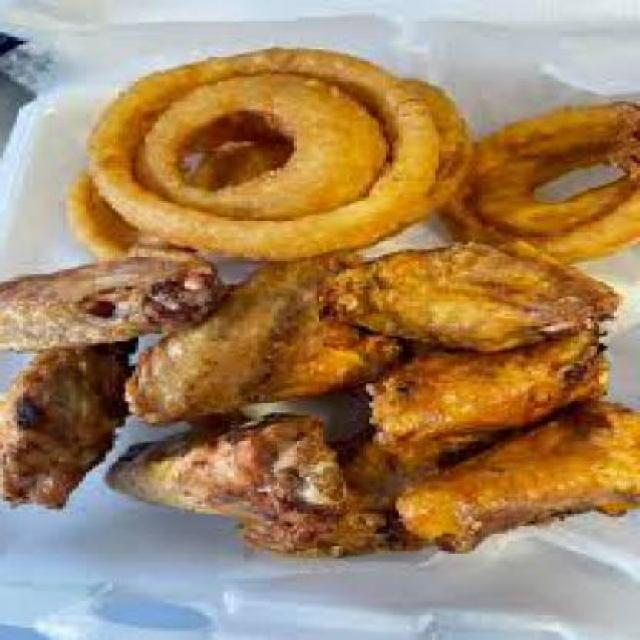chicken wings: (3, 208, 637, 563)
